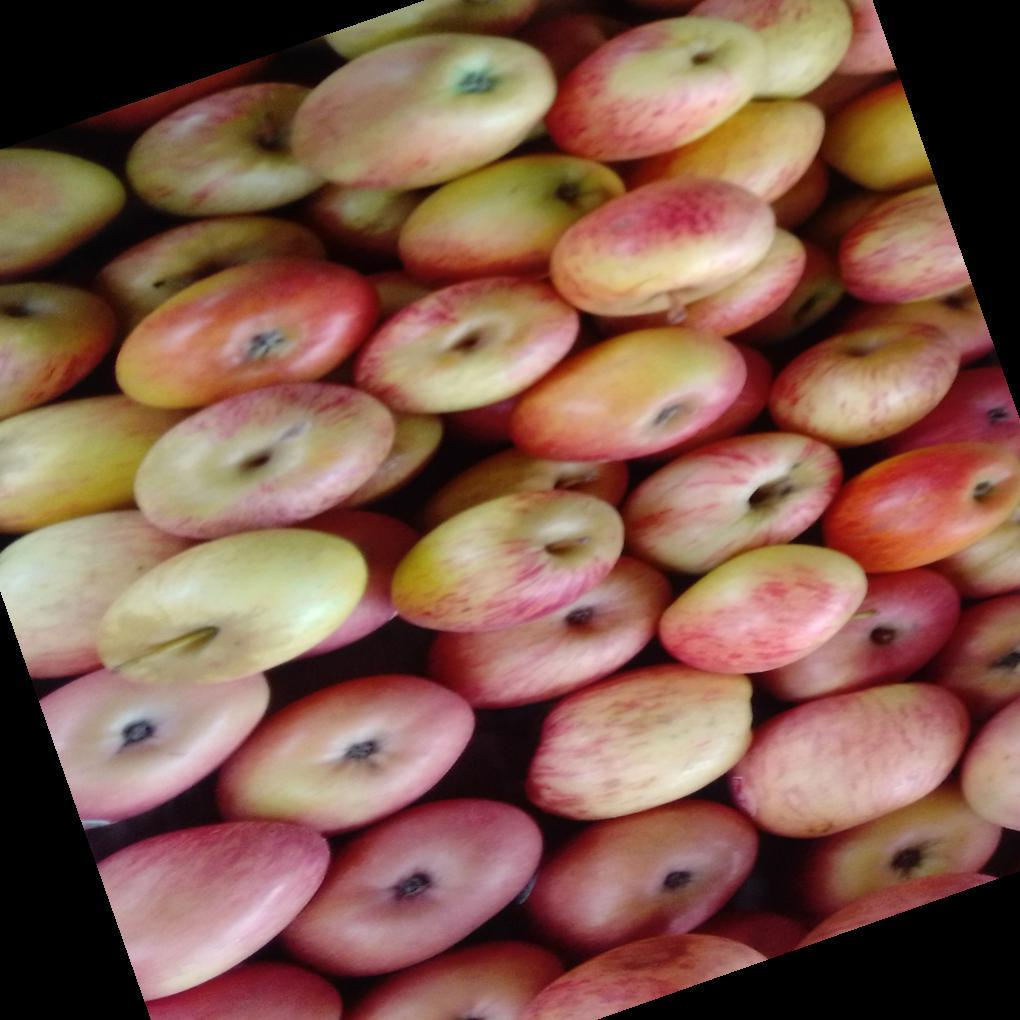FreshGuava: (0, 0, 1020, 933)
